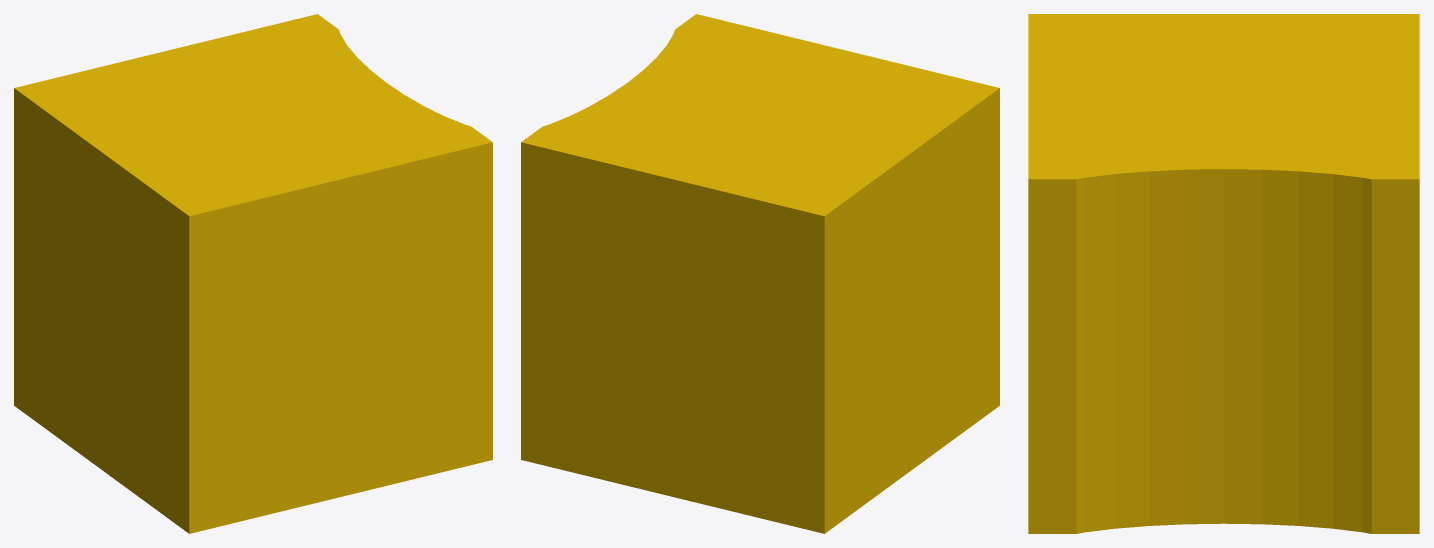
The picture shows the model from 3 angles, left to right: view 1: azimuth 30°, elevation 25°; view 2: azimuth 150°, elevation 25°; view 3: azimuth 270°, elevation 25°; orthographic projection. The views are drawn at different scales.
Visible parts, largest first — view 1: tmp_export_Cube.007; view 2: tmp_export_Cube.007; view 3: tmp_export_Cube.007.
Part boxes in pixels (box(x1,y1,x2,y2)): tmp_export_Cube.007: box(14, 14, 492, 533); tmp_export_Cube.007: box(521, 14, 999, 533); tmp_export_Cube.007: box(1028, 14, 1419, 533).
Bounding box in the file's own units: 2 × 2 × 2.
